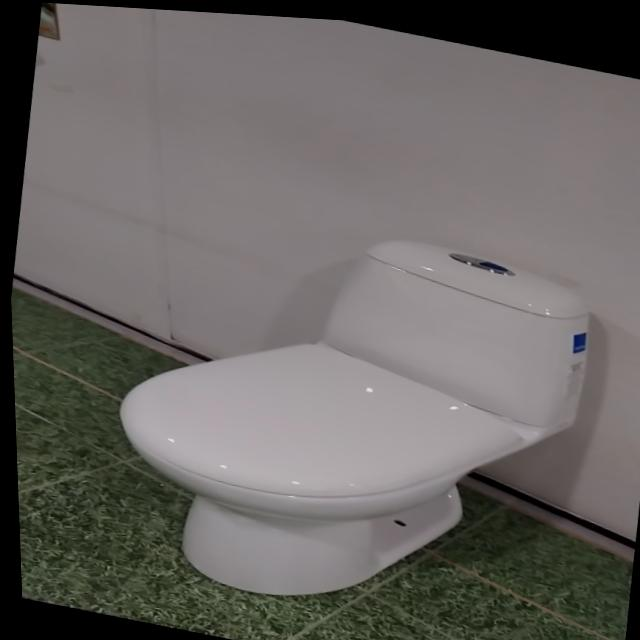toilet: (86, 181, 606, 640)
